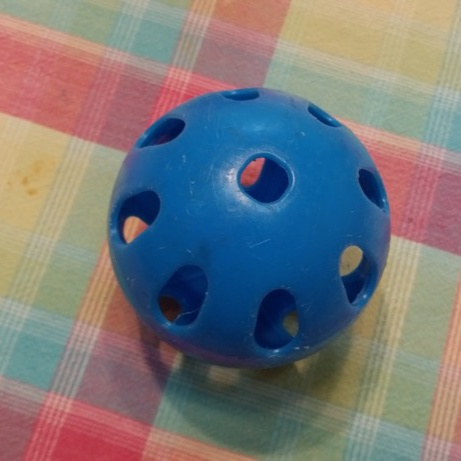blueball: (104, 86, 397, 373)
